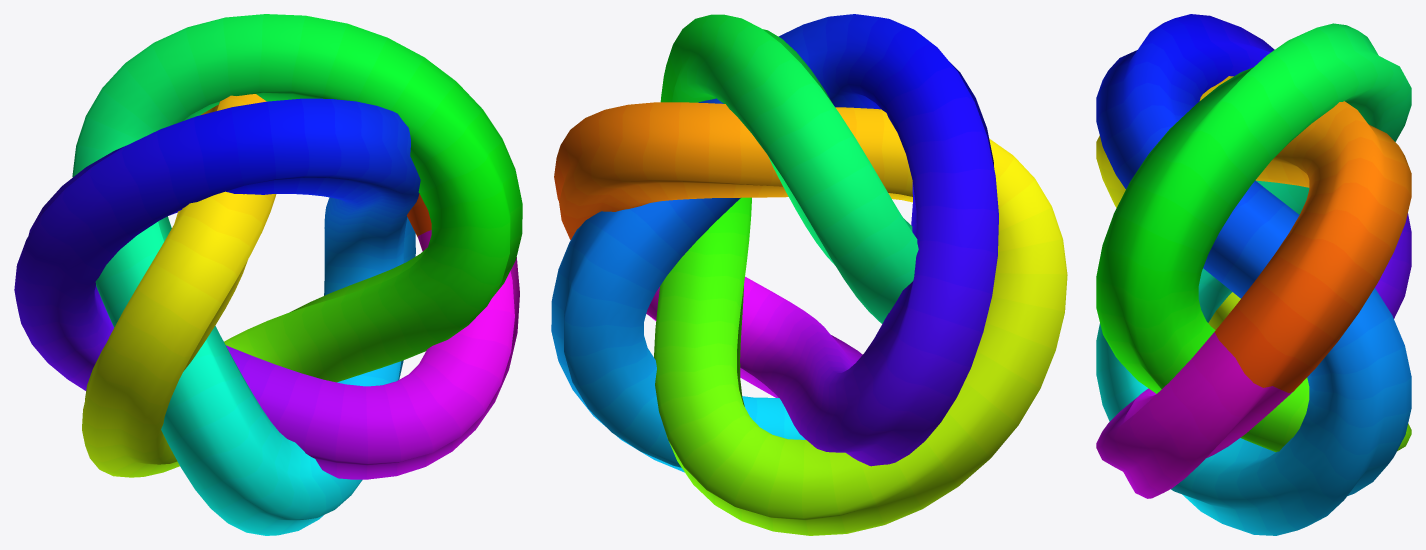
File: gradient_knot.obj
3 renders of one model, left to right at view 1: azimuth 30°, elevation 25°; view 2: azimuth 150°, elevation 25°; view 3: azimuth 270°, elevation 25°, orthographic.
Bounding box in the file's own units: 7.25 × 7.34 × 4.42.
